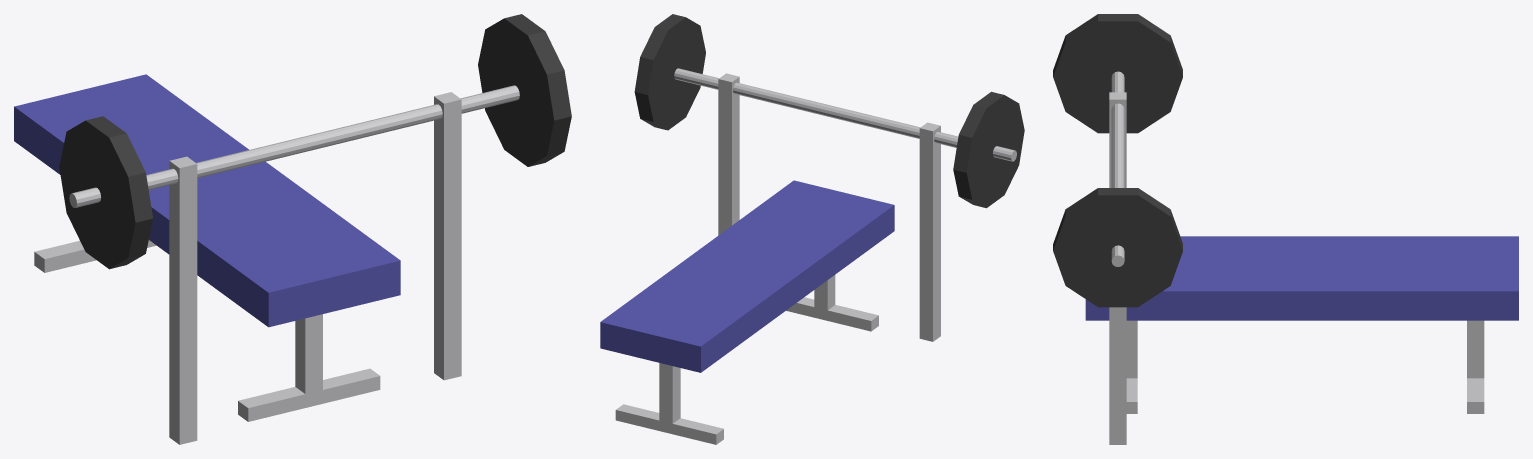
File: Bench.fbx
3 views of the same model, side by side, from view 1: azimuth 30°, elevation 25°; view 2: azimuth 150°, elevation 25°; view 3: azimuth 270°, elevation 25° (orthographic). The views are drawn at different scales.
Parts seen in each view (by area): view 1: Bench; view 2: Bench; view 3: Bench.
Boxes of the visible parts, x1,y1,x2,y2 form: Bench: [14, 14, 571, 444]; Bench: [600, 14, 1024, 444]; Bench: [1053, 14, 1518, 444].
Size of the model in its own units: 220 by 144 by 215.
